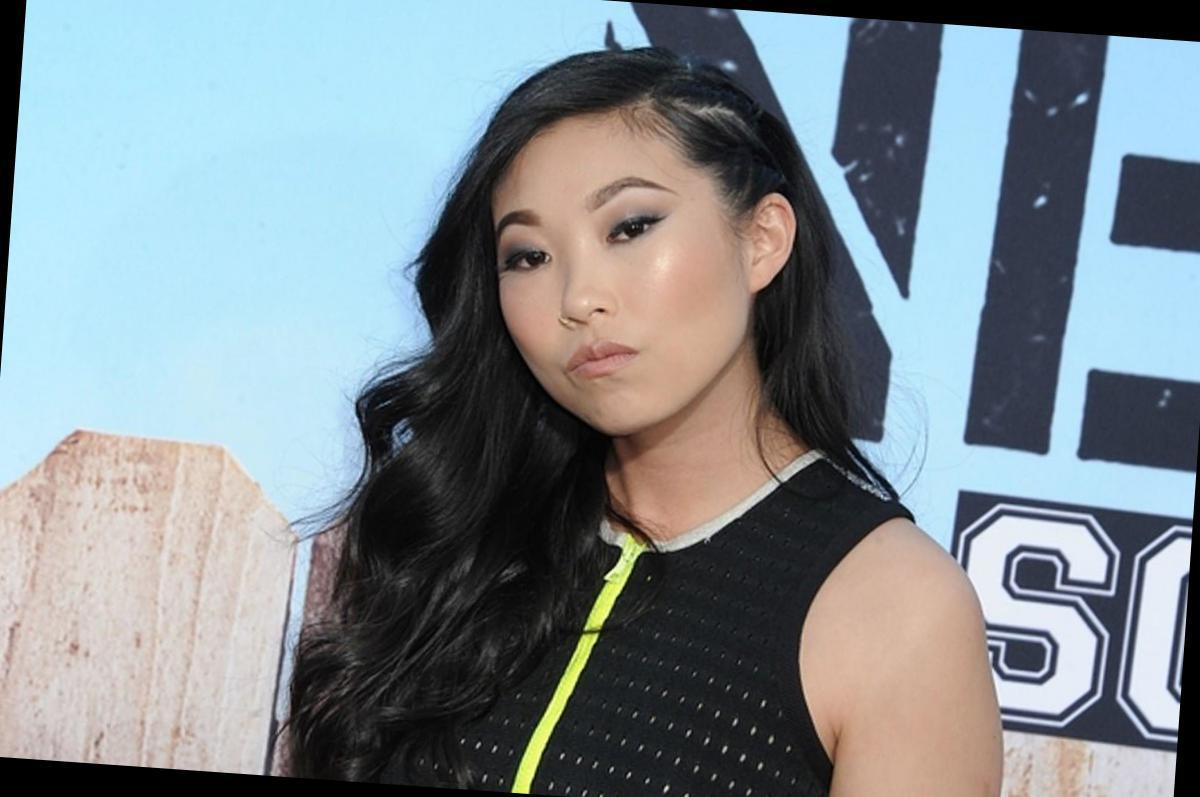Sober: (481, 144, 722, 416)
